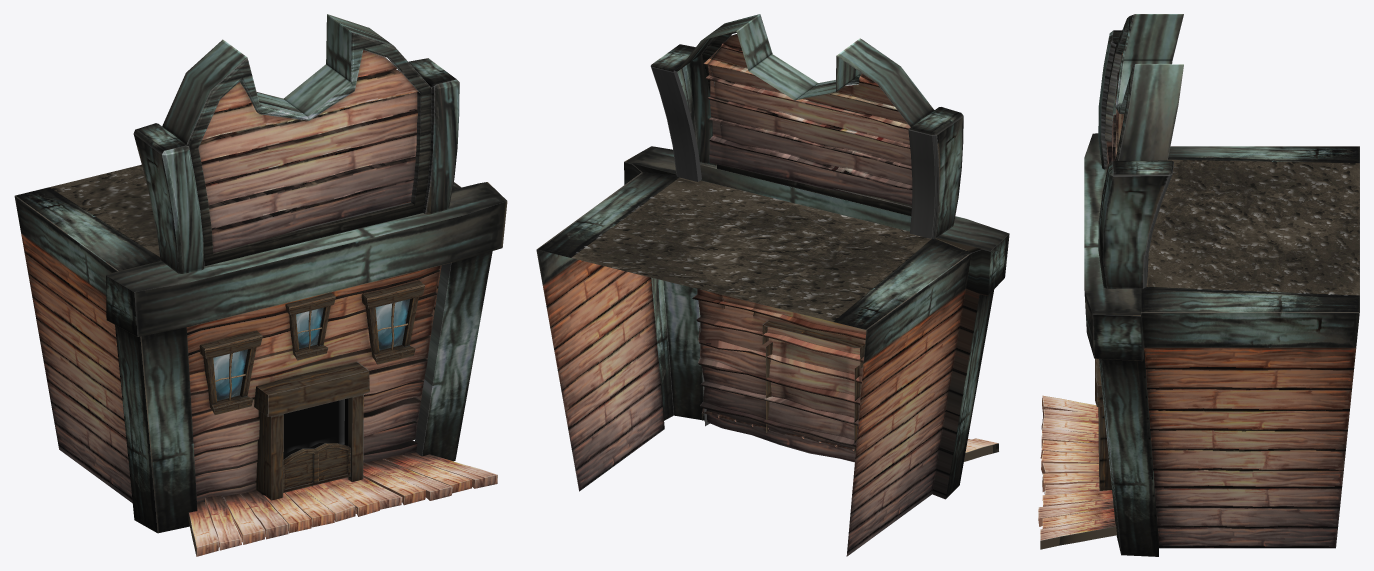
Rendered from saloon.FBX.
3 renders of one model, left to right at view 1: azimuth 30°, elevation 25°; view 2: azimuth 150°, elevation 25°; view 3: azimuth 270°, elevation 25°, orthographic. The views are drawn at different scales.
Visible parts, largest first — view 1: saloon; view 2: saloon; view 3: saloon.
Part boxes in pixels (left/top/right/bottom): saloon: left=14, top=14, right=507, bottom=556; saloon: left=536, top=14, right=1009, bottom=556; saloon: left=1038, top=14, right=1359, bottom=556.
Bounding box in the file's own units: 1421 × 1590 × 1044.
